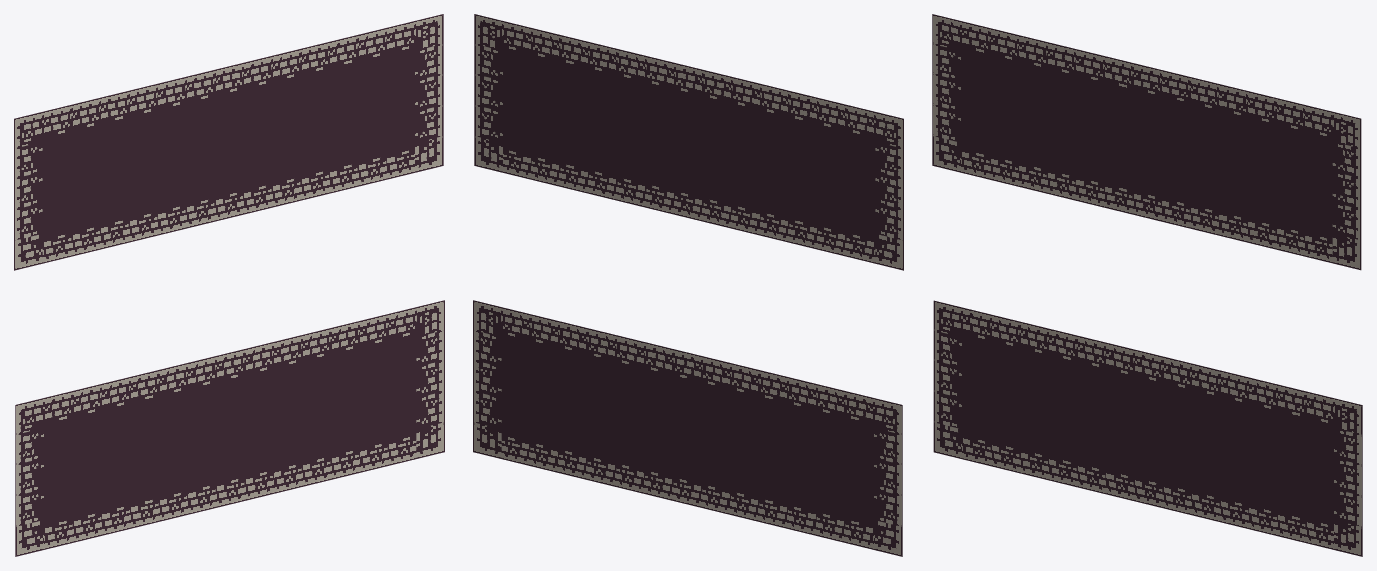
File: sampleText.gltf
The picture shows the model from 3 angles, left to right: view 1: azimuth 30°, elevation 25°; view 2: azimuth 150°, elevation 25°; view 3: azimuth 330°, elevation 25°; orthographic projection.
Visible parts, largest first — view 1: Plane, Plane.001; view 2: Plane, Plane.001; view 3: Plane, Plane.001.
Boxes of the visible parts, <box> form: Plane: <box>15,300,444,556</box>; Plane.001: <box>14,14,443,270</box>; Plane: <box>473,300,902,556</box>; Plane.001: <box>474,14,903,270</box>; Plane: <box>933,300,1362,556</box>; Plane.001: <box>932,14,1361,270</box>.
Size of the model in its own units: 2.58 by 2.51 by 2.95e-08.
1 material, 1 textured.
